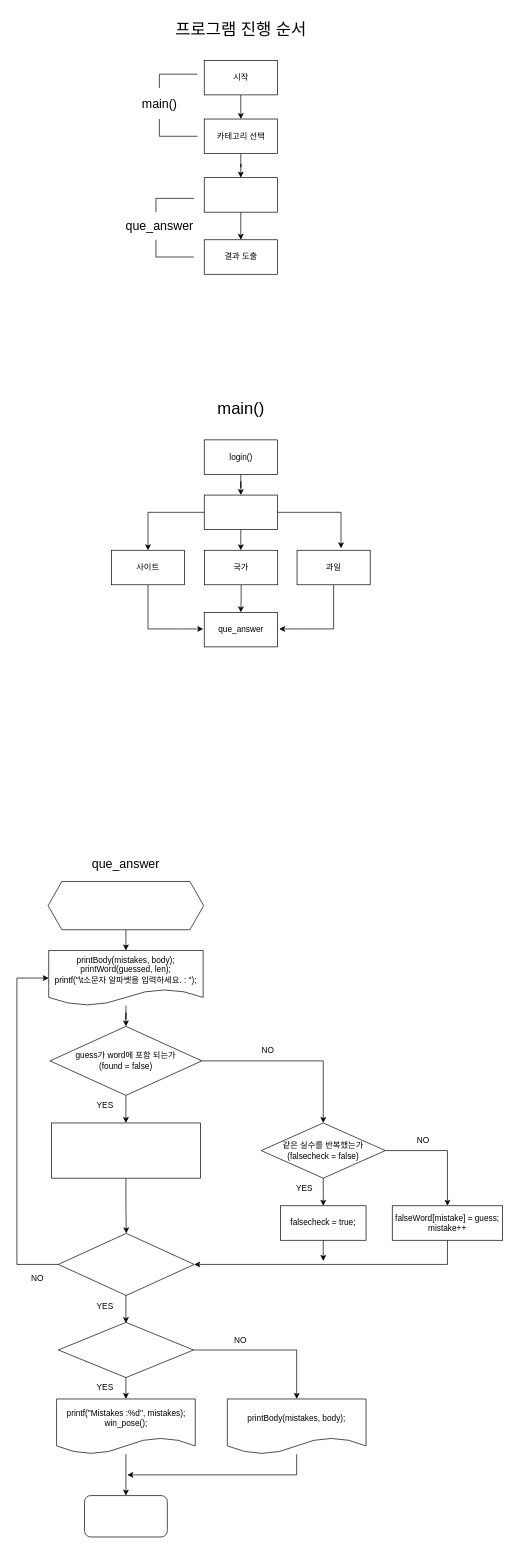
This 515x1549 diagram has some shape labels left out. The shapes that lost their labels are listed below. From the top down, each one's centre as x and y in pixels, then its label:
At (240,194): "알파벳 입력".
At (240,512): "카테고리".
At (125,905): "char* body=malloc(CHANCE+1); char* guessed = malloc(len);".
At (125,1150): "guessed에 해당하는 문자 입력 gussed[i] = guess; found = true;".
At (126,1264): "mistakes<CHANCE && win !=NULL".
At (126,1350): "win==NULL".
At (125,1516): "EXIT_SUCCESS".
